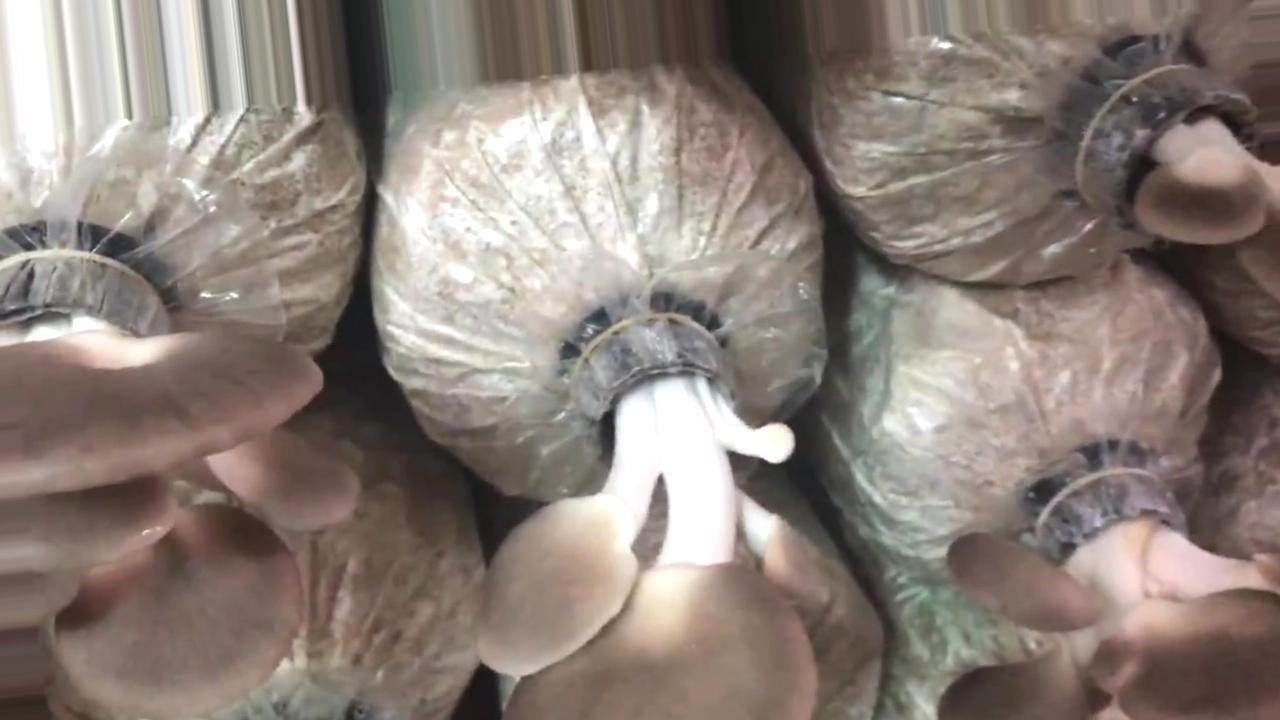nam: (1, 246, 355, 712), (475, 321, 845, 720), (941, 473, 1279, 720), (1086, 57, 1280, 256)
